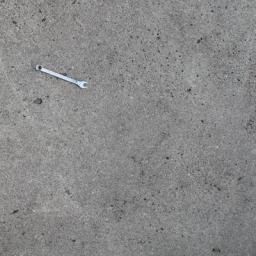FOD: (36, 63, 90, 93)
